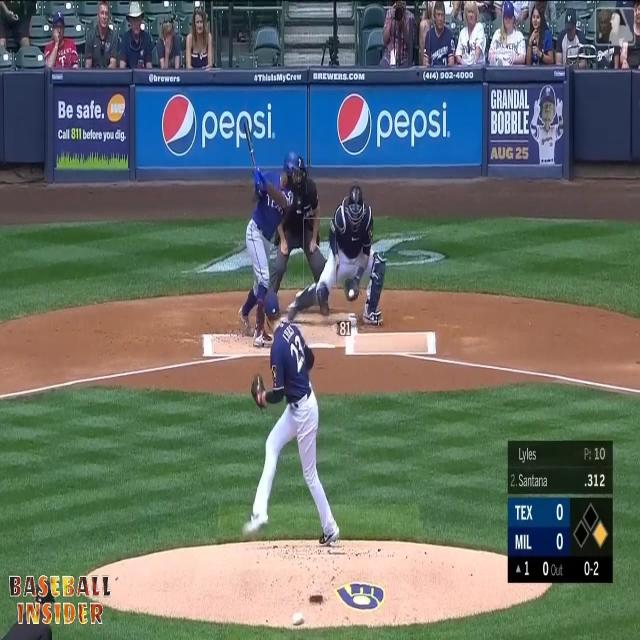baseball: (348, 286, 355, 299)
